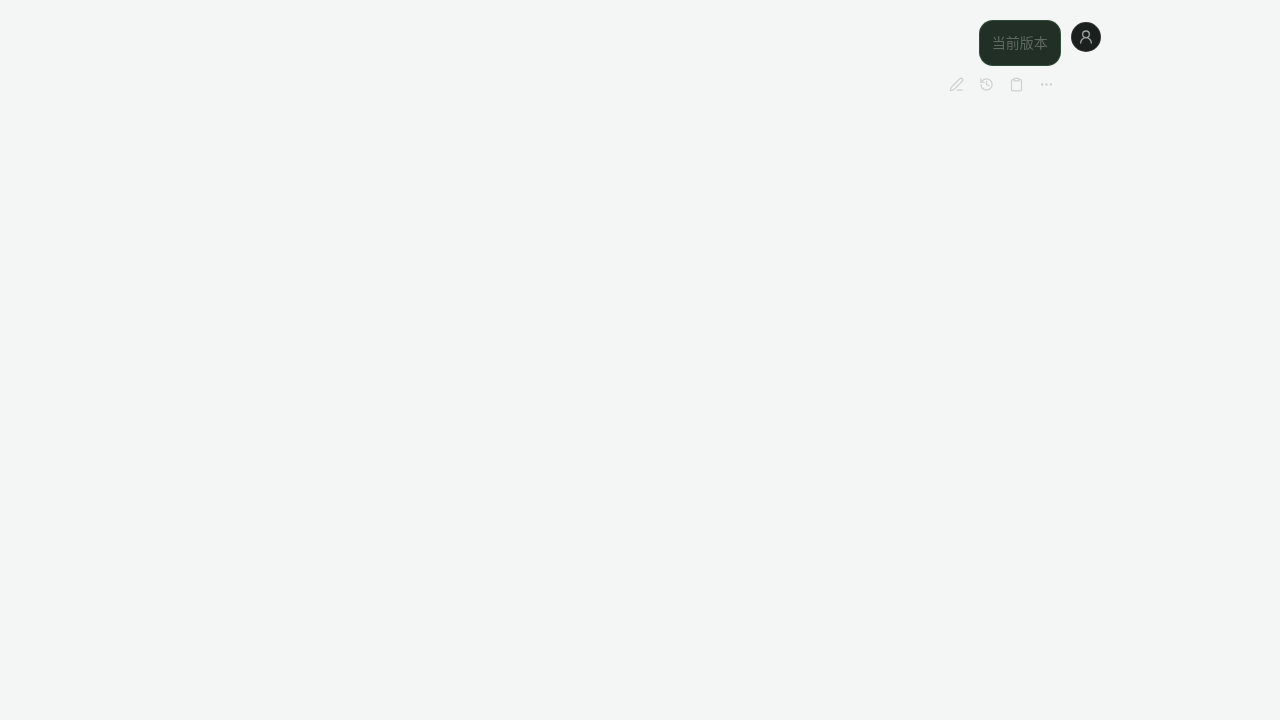
Test case: AgentConversationTimeline › shows message history and can restore an older version into the inline editor
Click the button named "历史版本" at (987, 85), box [973, 71, 1001, 99]
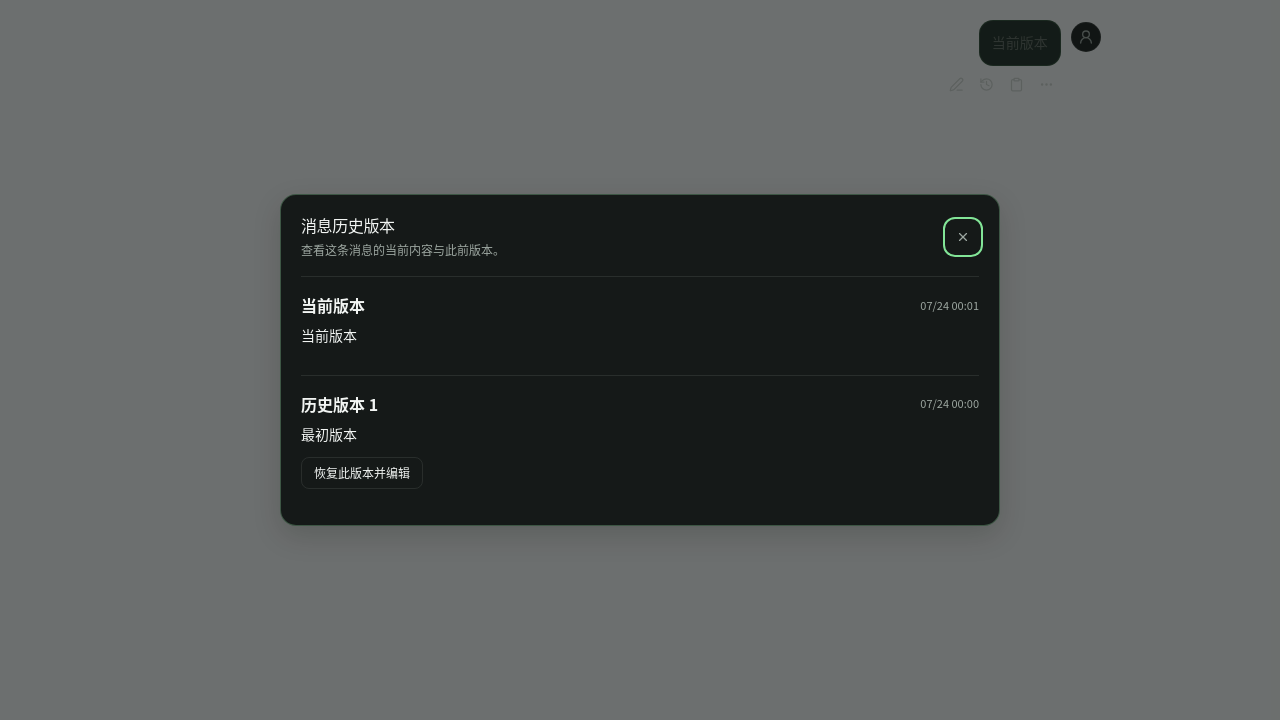
Check: the dialog "消息历史版本" shows "当前版本", box [301, 293, 365, 317]
Check: the dialog "消息历史版本" shows "最初版本", box [301, 424, 357, 444]
Press Escape
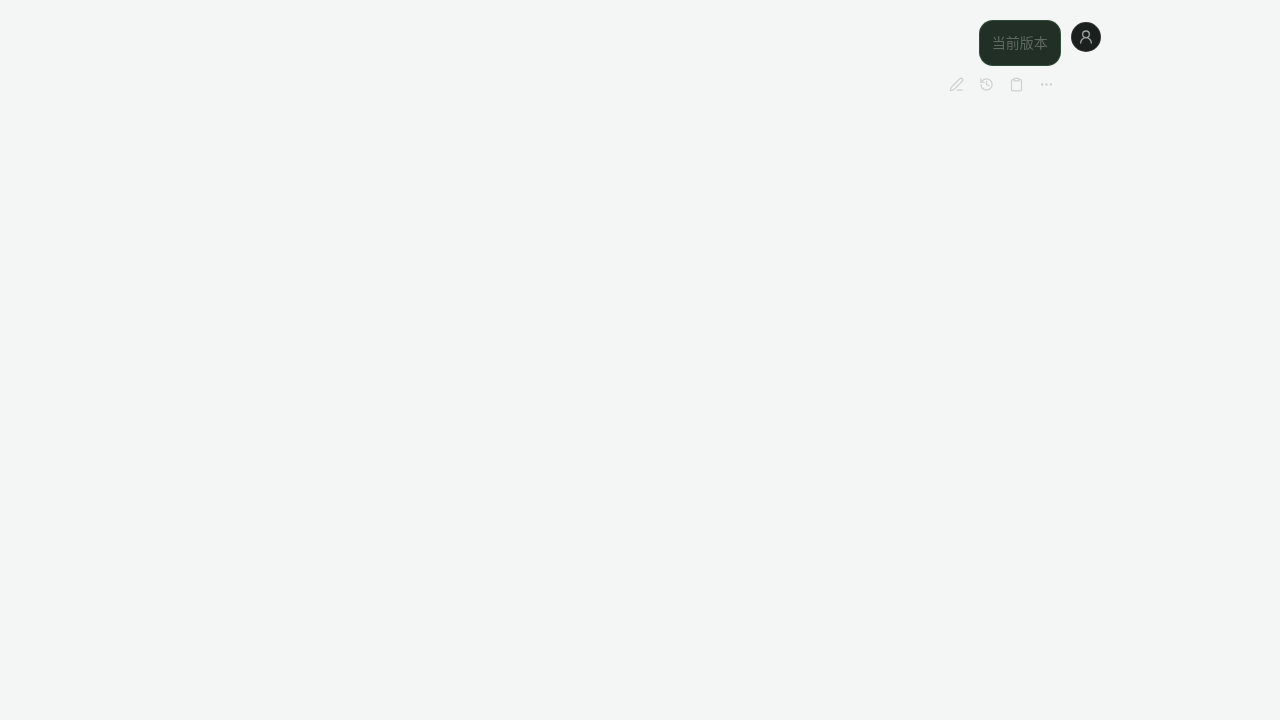
Check: the heading "消息历史版本" is gone
Click the button named "历史版本" at (987, 85), box [973, 71, 1001, 99]
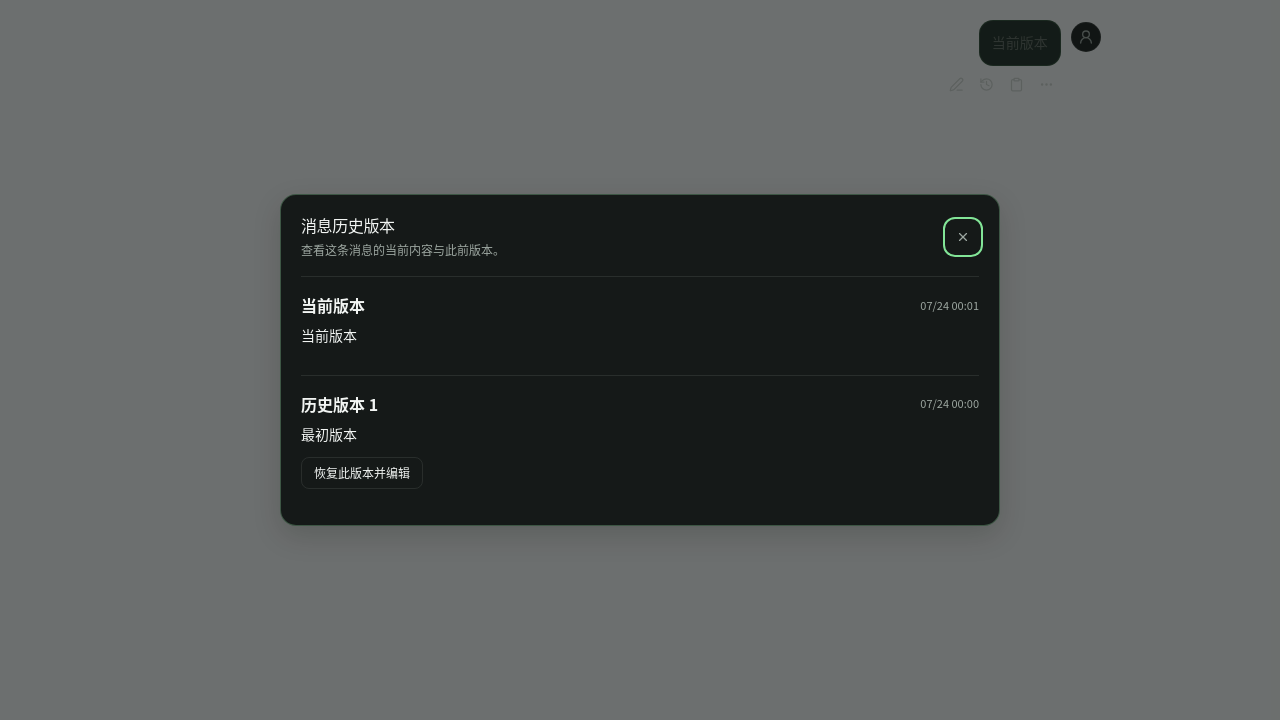
Click the button "恢复此版本并编辑" at (362, 473), box [301, 457, 423, 489]
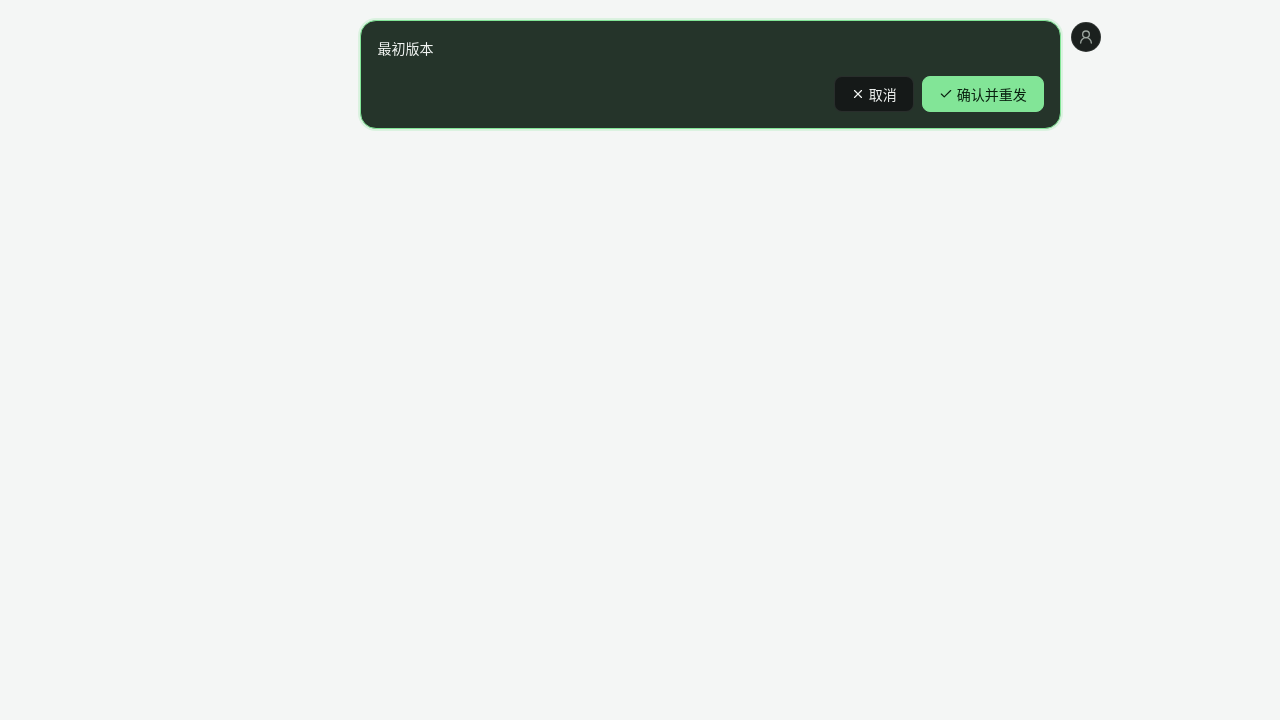
Check: the text box named "编辑消息" holds "最初版本", box [377, 37, 1044, 59]
Check: the heading "消息历史版本" is gone
